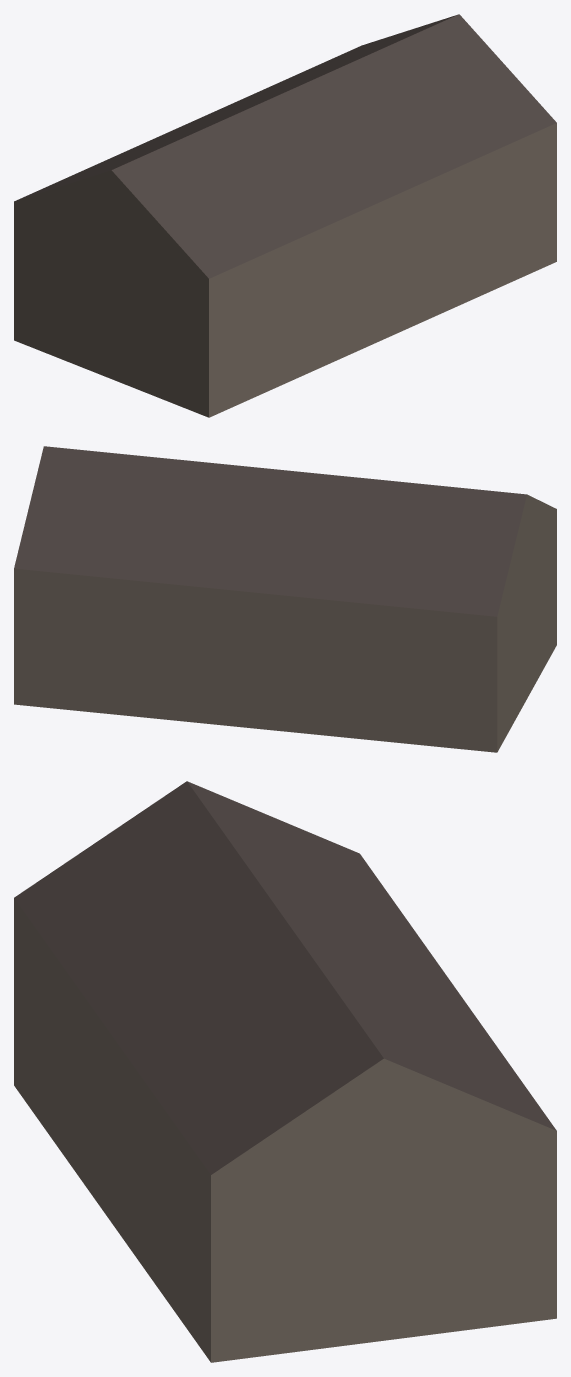
The picture shows the model from 3 angles, top to bottom: view 1: azimuth 30°, elevation 25°; view 2: azimuth 150°, elevation 25°; view 3: azimuth 270°, elevation 25°; orthographic projection. The views are drawn at different scales.
Visible parts, largest first — view 1: HP-w143542720; view 2: HP-w143542720; view 3: HP-w143542720.
Boxes of the visible parts, left/top/right/bottom form: HP-w143542720: left=14, top=14, right=556, bottom=417; HP-w143542720: left=14, top=446, right=556, bottom=752; HP-w143542720: left=14, top=781, right=556, bottom=1362.
Bounding box in the file's own units: 22.05 × 9.02 × 15.73.
